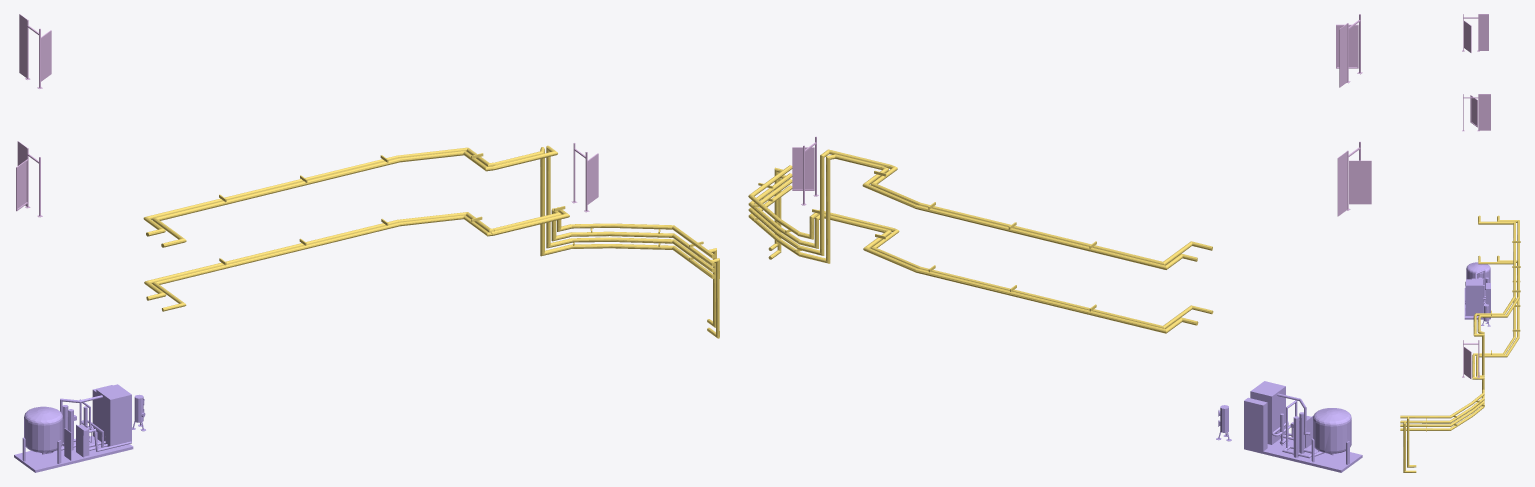
The model's file is HO-side-C-Services-cut3.glb.
The picture shows the model from 3 angles, left to right: view 1: azimuth 30°, elevation 25°; view 2: azimuth 150°, elevation 25°; view 3: azimuth 270°, elevation 25°; orthographic projection. The views are drawn at different scales.
Visible parts, largest first — view 1: _000001D30E80B760_IndexedFaceSet, _000001D304196090_IndexedFaceSet, _000001D30419B730_IndexedFaceSet; view 2: _000001D30E80B760_IndexedFaceSet, _000001D304196090_IndexedFaceSet, _000001D30419B730_IndexedFaceSet; view 3: _000001D30E80B760_IndexedFaceSet, _000001D30419B730_IndexedFaceSet, _000001D304196090_IndexedFaceSet.
Part boxes in pixels (x1,y1,x2,y2): _000001D30E80B760_IndexedFaceSet: (143,145,719,338); _000001D304196090_IndexedFaceSet: (14,384,145,472); _000001D30419B730_IndexedFaceSet: (16,14,598,217); _000001D30E80B760_IndexedFaceSet: (748,149,1213,333); _000001D304196090_IndexedFaceSet: (1216,381,1362,472); _000001D30419B730_IndexedFaceSet: (792,14,1371,216); _000001D30E80B760_IndexedFaceSet: (1400,215,1520,472); _000001D30419B730_IndexedFaceSet: (1462,14,1490,379); _000001D304196090_IndexedFaceSet: (1464,262,1490,326).
Size of the model in its own units: 26.58 by 17.3 by 6.84.
